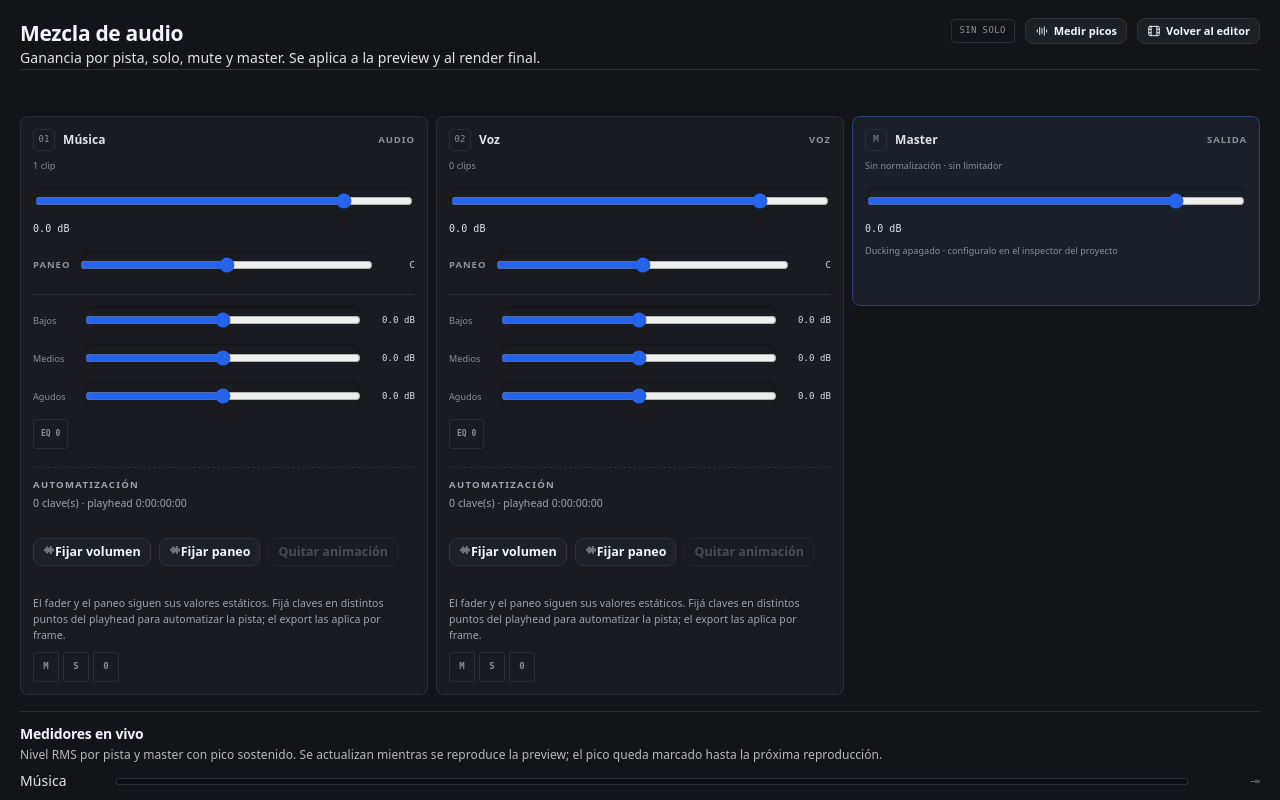
Test: vista de mezcla › mide el pico con el backend y normaliza el fader a -6 dBFS
This screenshot has width=1280, height=800.
Click the button "Medir picos".
click(1076, 31)  # box top-left (1025, 18), bottom-right (1127, 44)
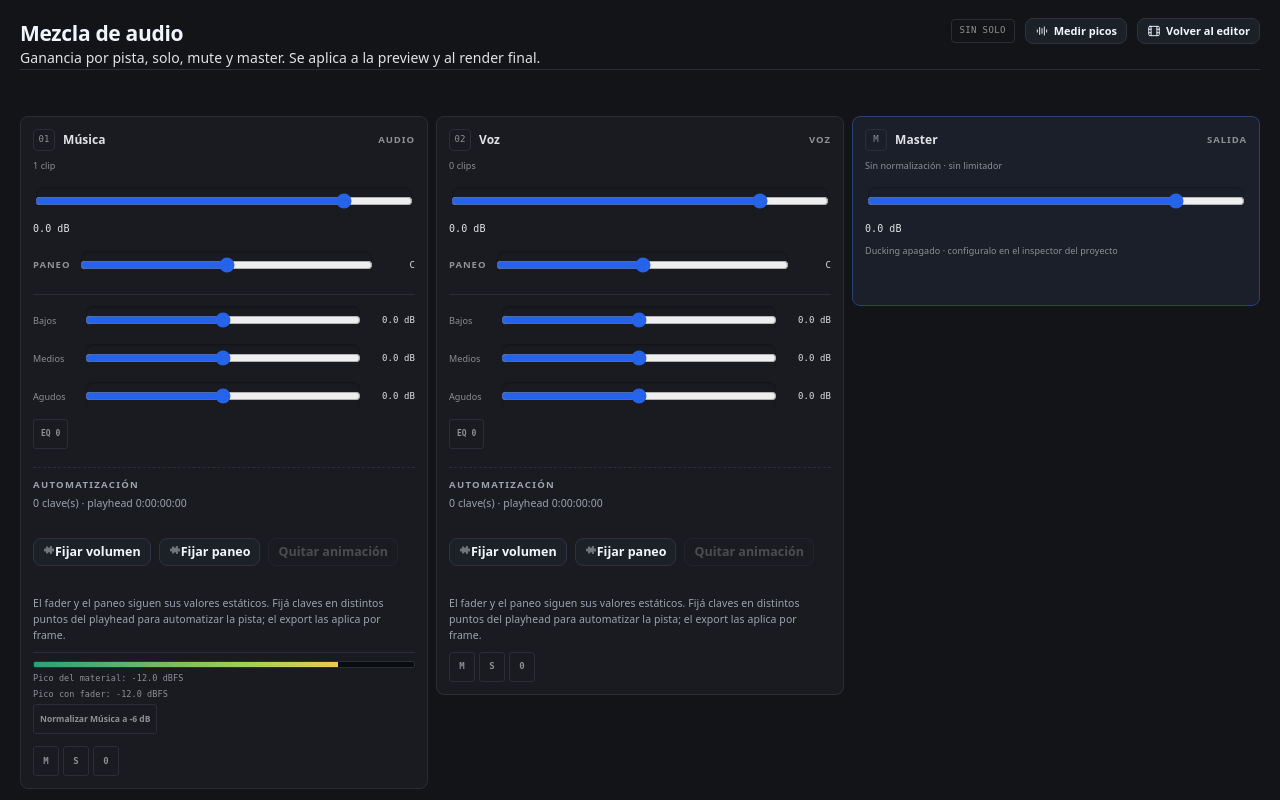
Now the text "Pico del material: -12.0 dBFS" is shown, box top-left (33, 673), bottom-right (183, 683)
Click the button "Normalizar Música a -6 dB".
click(95, 719)  # box top-left (33, 704), bottom-right (158, 734)
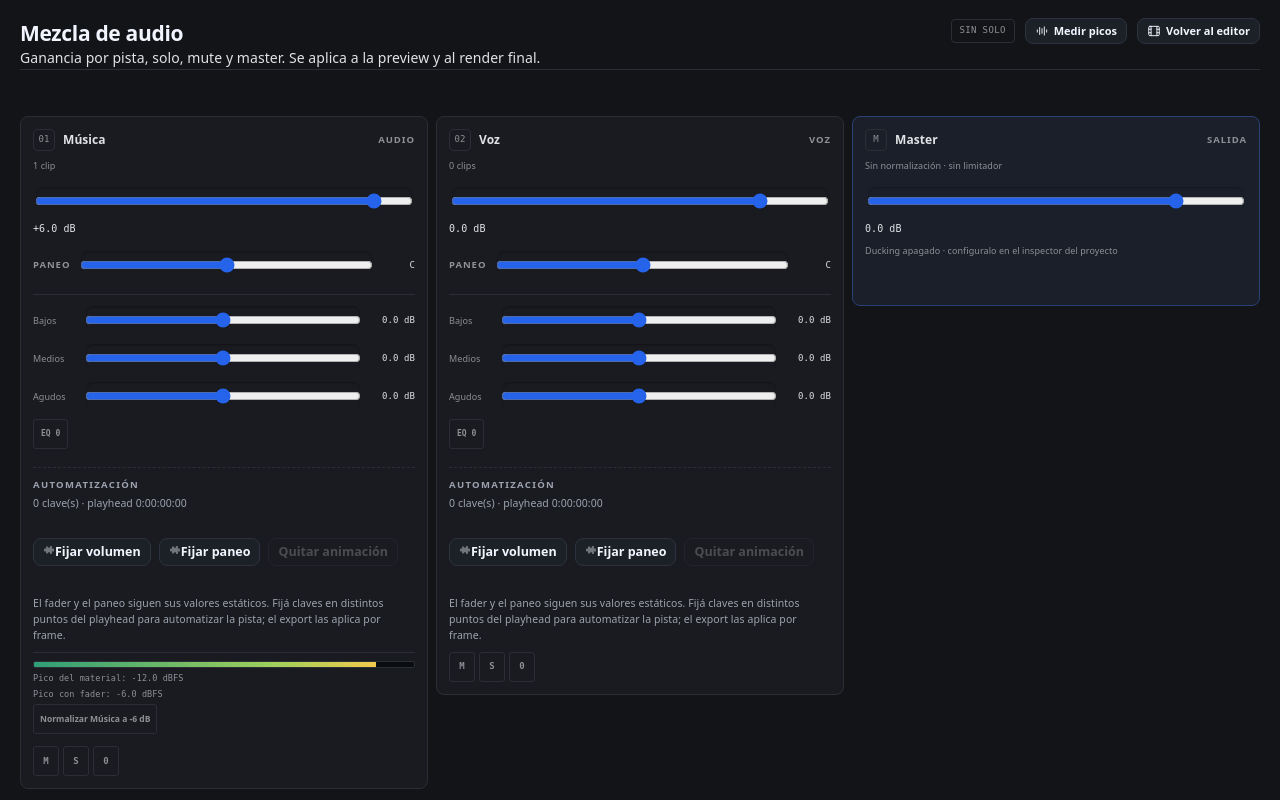
Now the text "Pico con fader: -6.0 dBFS" is shown, box top-left (33, 689), bottom-right (163, 699)
